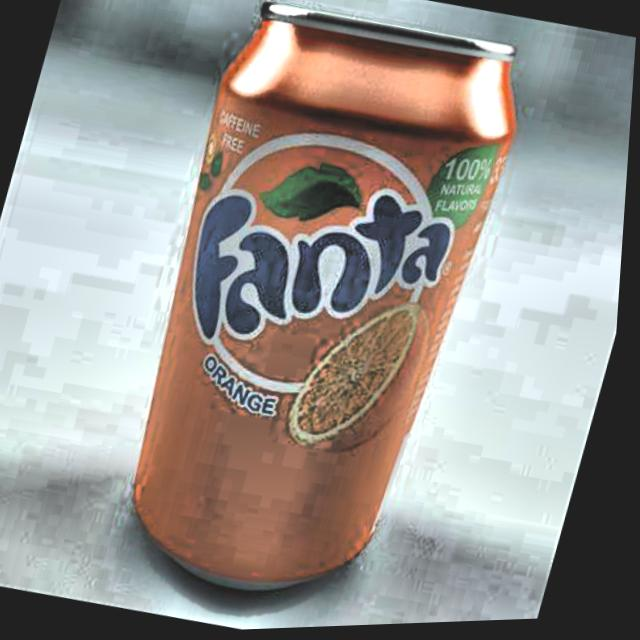Cans: (51, 0, 554, 638)
